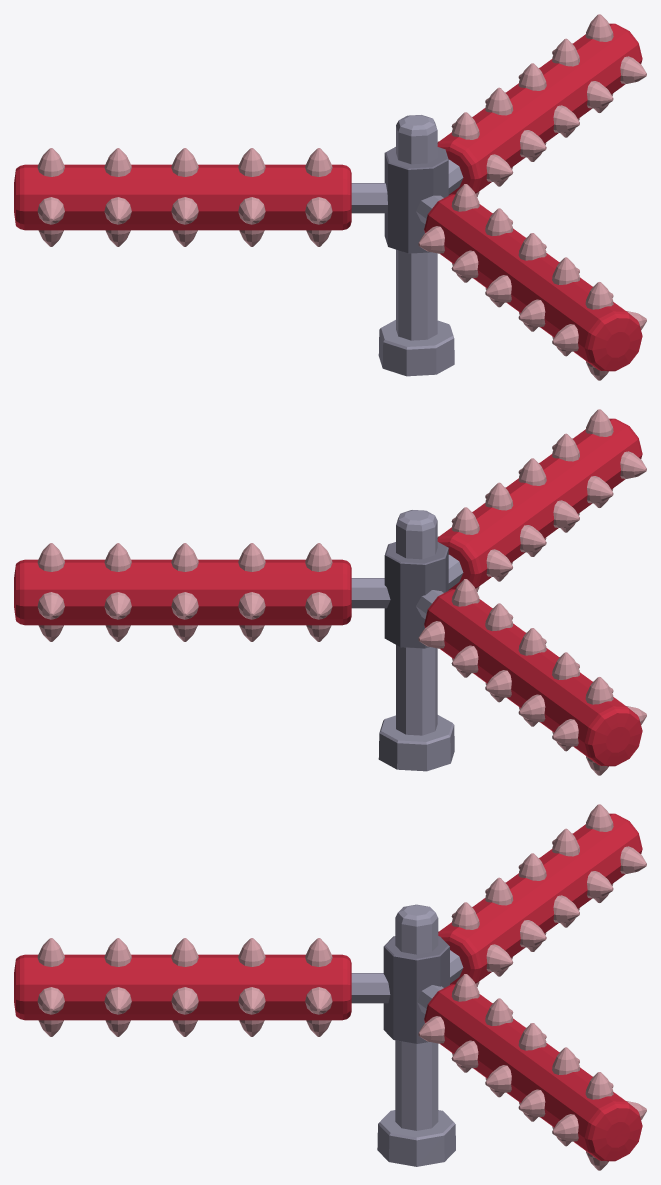
File: Hurdle2.fbx
3 views of the same model, one above another, from view 1: azimuth 30°, elevation 25°; view 2: azimuth 150°, elevation 25°; view 3: azimuth 270°, elevation 25° (orthographic).
Parts seen in each view (by area): view 1: Hurdle2; view 2: Hurdle2; view 3: Hurdle2.
Boxes of the visible parts, bbox=[...] form: Hurdle2: bbox=[14, 14, 646, 380]; Hurdle2: bbox=[14, 409, 646, 775]; Hurdle2: bbox=[14, 804, 646, 1170].
Size of the model in its own units: 4.89 by 1.79 by 4.28.
1 material, 1 textured.
